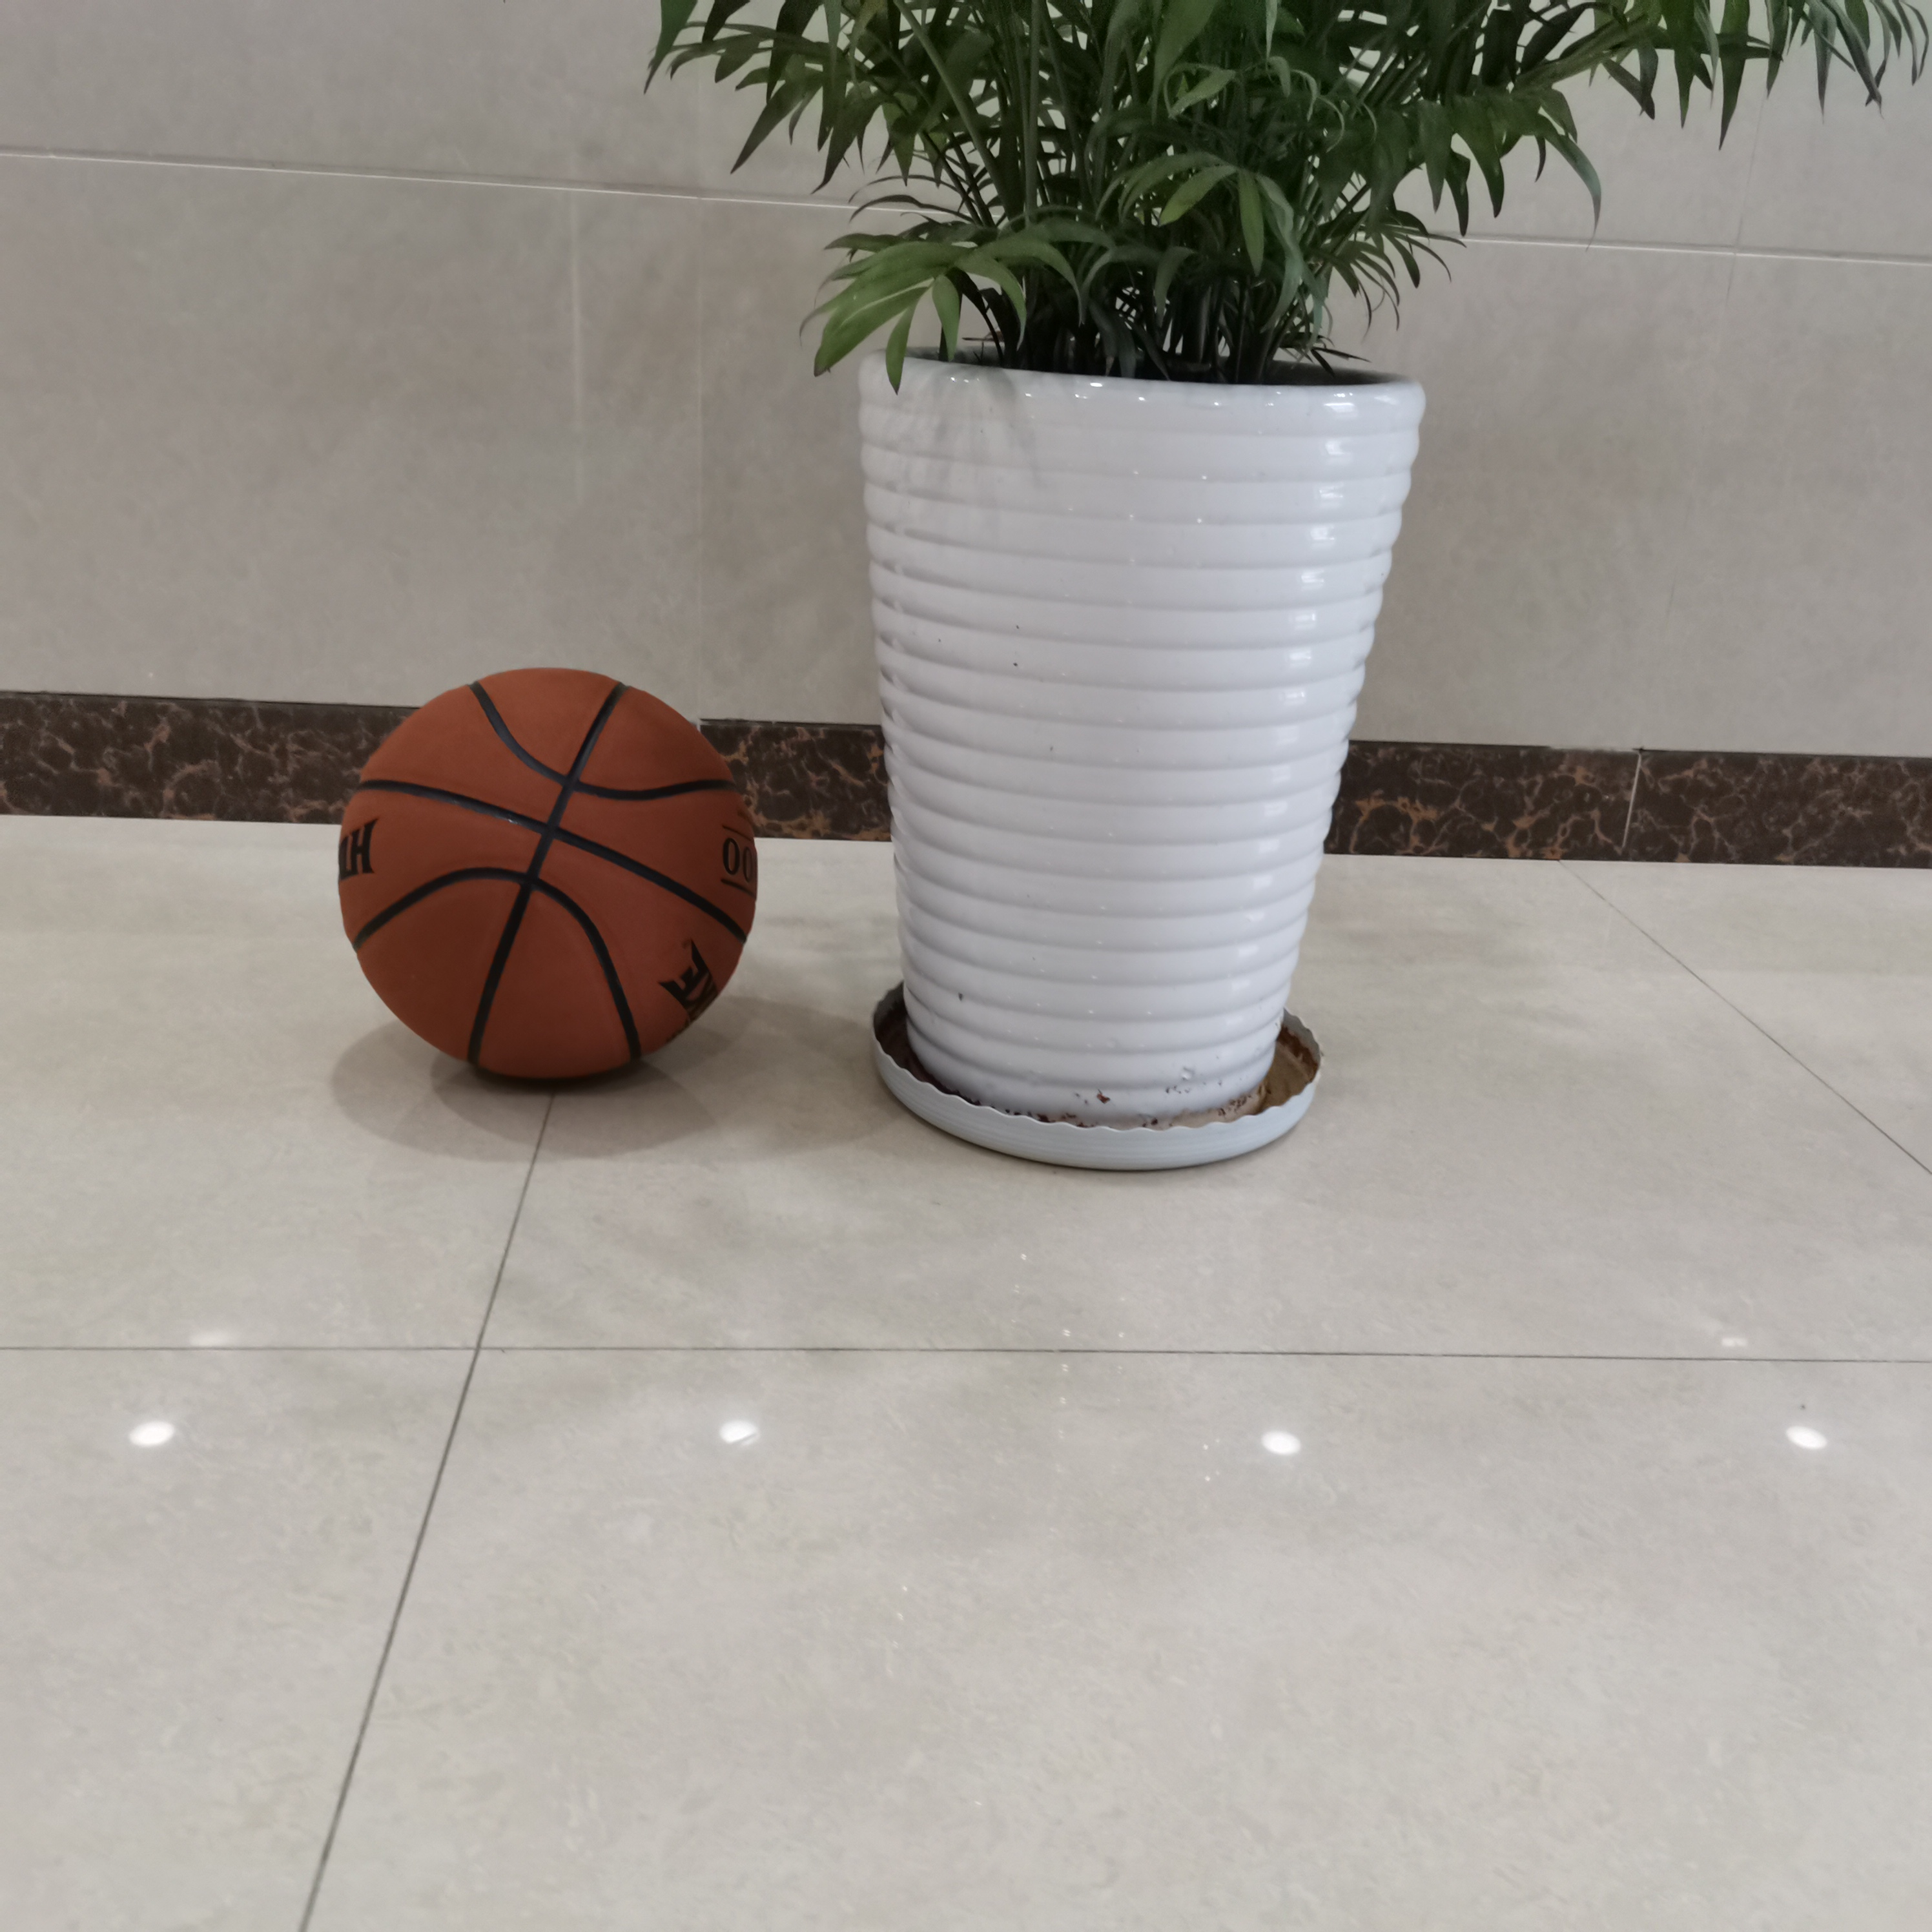basketball: (336, 667, 763, 1081)
